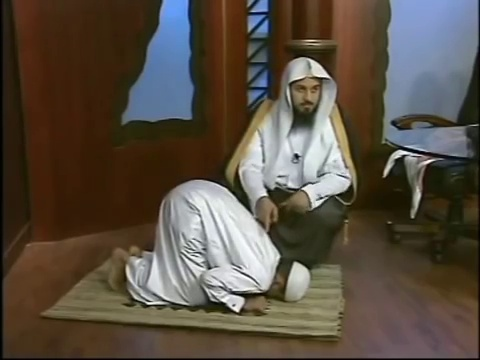sujud: (106, 180, 311, 315)
